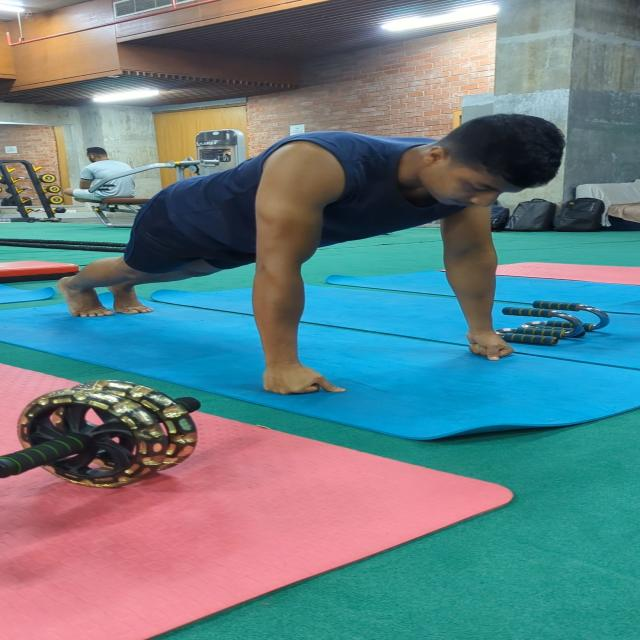Normal_PushUps: (53, 107, 572, 400)
